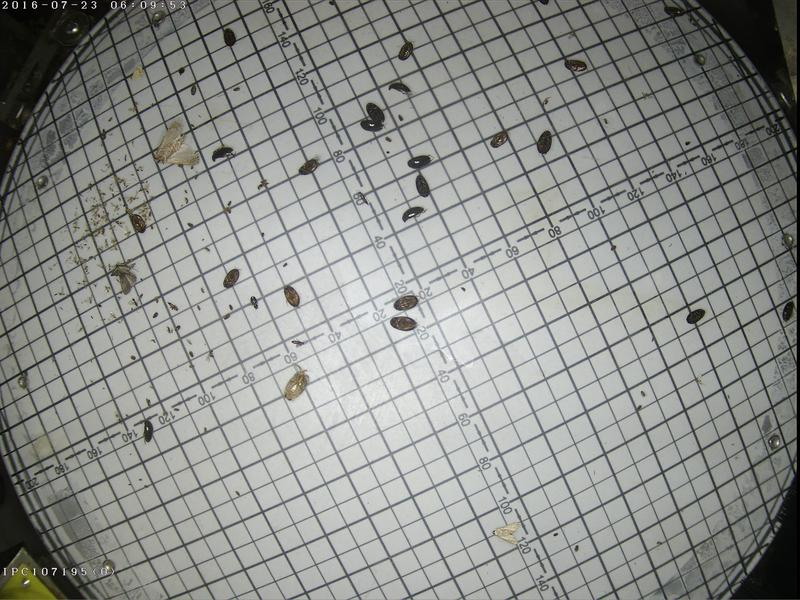Spodoptera litura: (151, 117, 199, 165)
